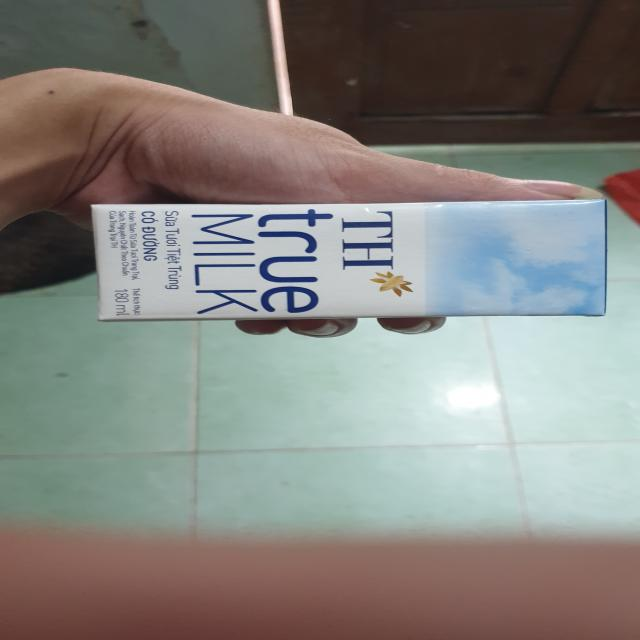TH: (93, 199, 608, 322)
